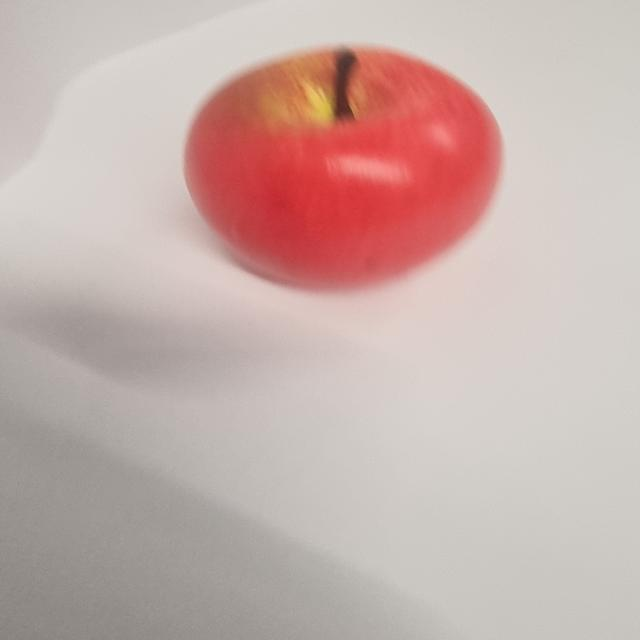apple: (183, 44, 504, 290)
